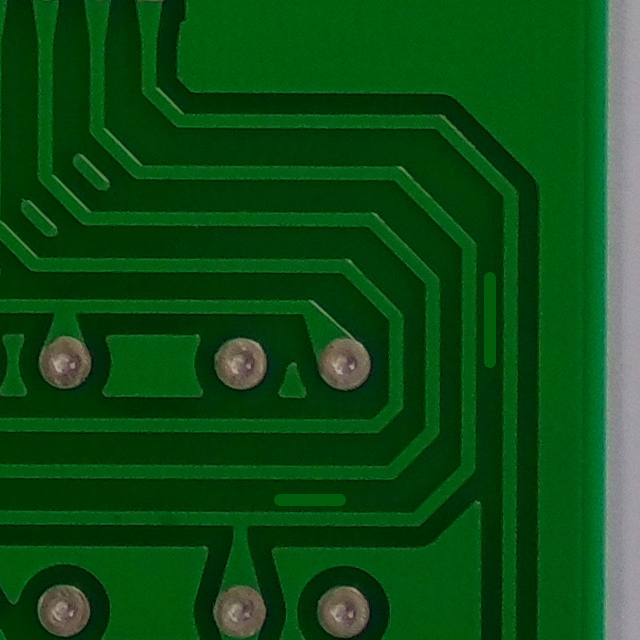spurious_copper: (457, 257, 515, 384), (255, 471, 362, 522)
